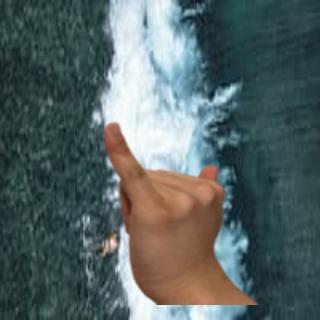HAVE: (92, 119, 244, 296)
